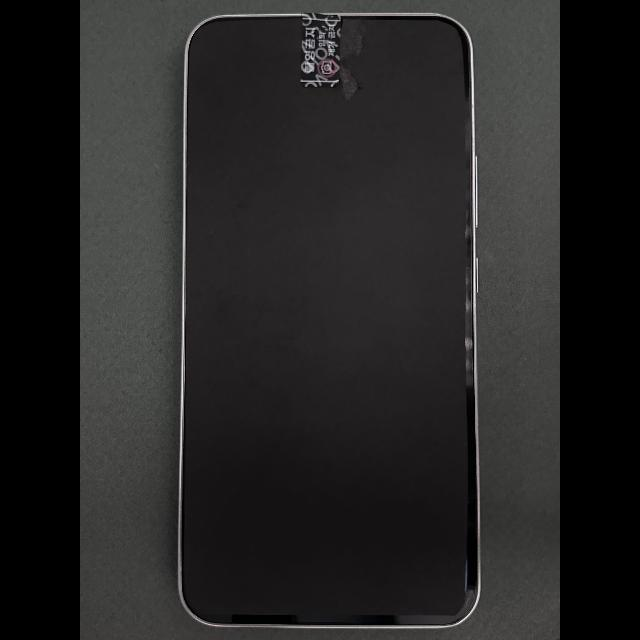phone: (178, 13, 481, 628)
sticker: (301, 13, 341, 88)
